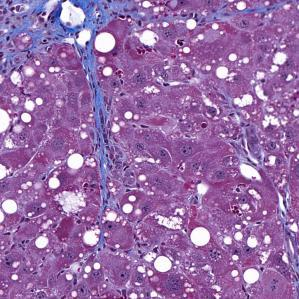fibrosis: (83, 65, 121, 182), (14, 8, 111, 50)
